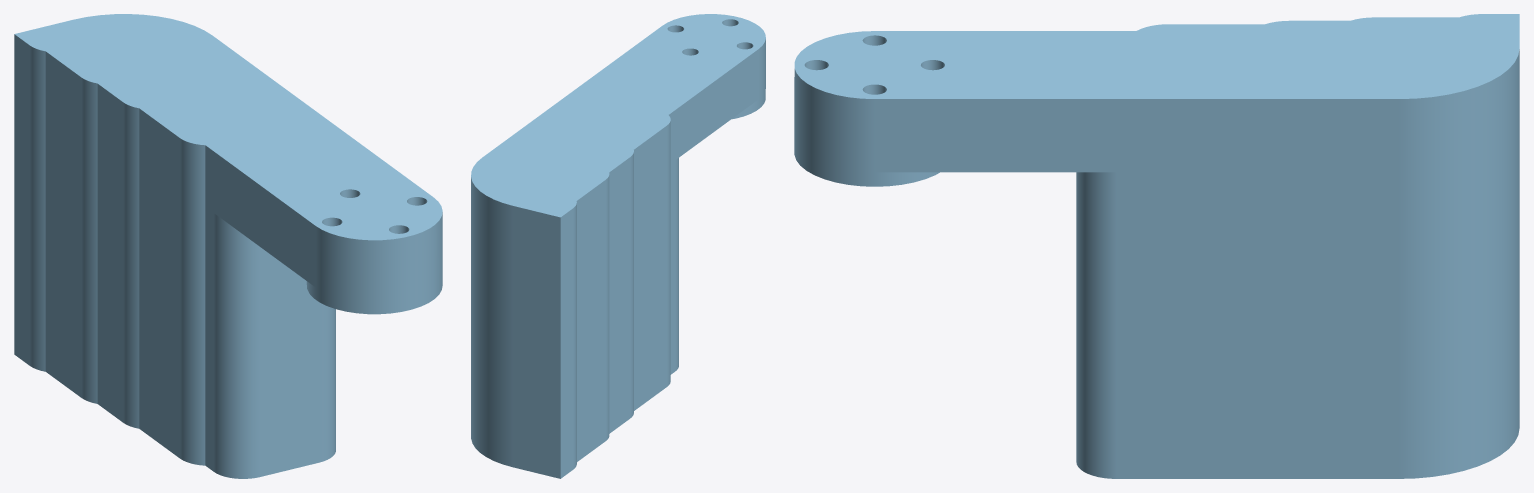
File: gripper_thumb.dae
The picture shows the model from 3 angles, left to right: view 1: azimuth 30°, elevation 25°; view 2: azimuth 150°, elevation 25°; view 3: azimuth 270°, elevation 25°; orthographic projection. The views are drawn at different scales.
Parts seen in each view (by area): view 1: ID2; view 2: ID2; view 3: ID2.
Part boxes in pixels (bbox=[...]): ID2: bbox=[14, 14, 442, 478]; ID2: bbox=[471, 14, 765, 478]; ID2: bbox=[794, 14, 1519, 478].
Bounding box in the file's own units: 0.025 × 0.09 × 0.052.
